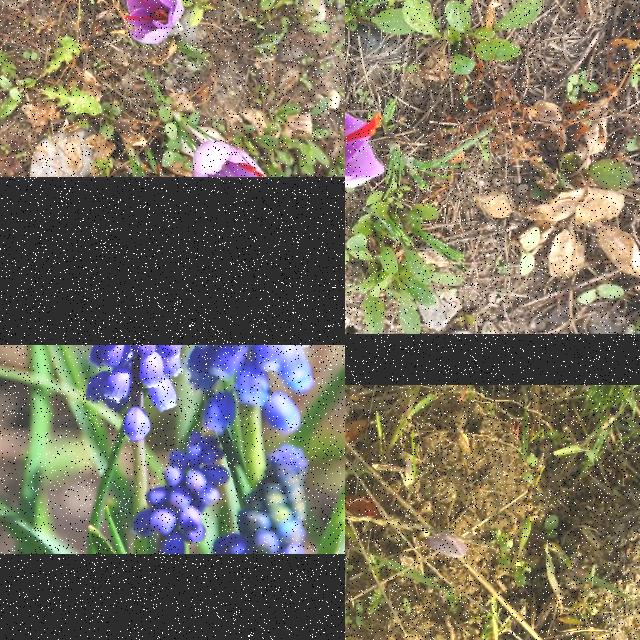flower: (345, 110, 386, 189), (192, 140, 268, 178), (122, 0, 186, 45), (426, 533, 468, 559)
